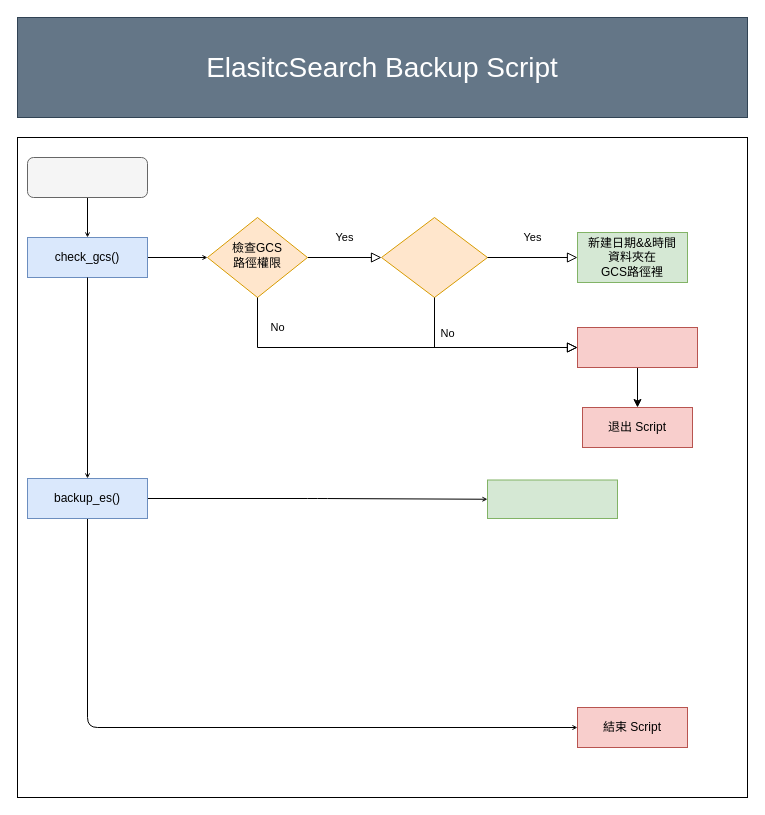
Some shapes in this 765 by 815 pixel diagram are drawn without their labels. Here are the shapes that lost their labels. From the top down, the box of each, then its label:
(26, 156, 148, 198): Script Start
(380, 216, 488, 298): 檢查 日期&&時間 資料夾是否 不存在
(576, 326, 698, 368): 紀錄不存在的檔名 至script_backup.log
(486, 479, 618, 518): 執行 ES Snapshot API
